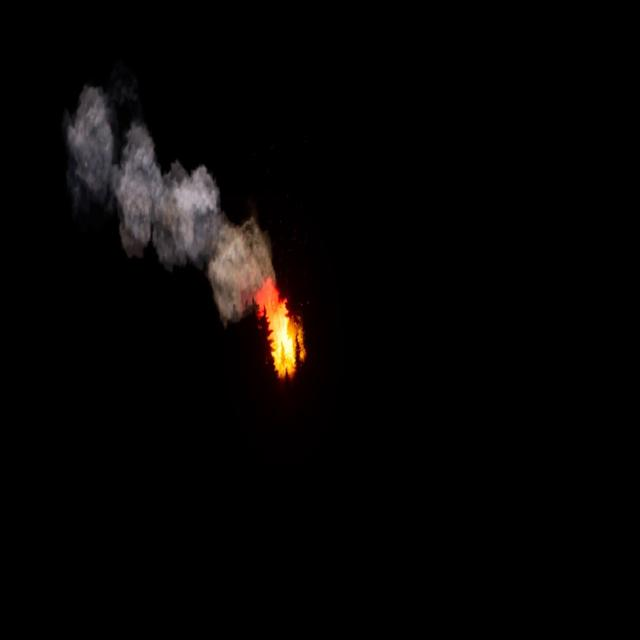fire: (241, 277, 307, 378)
smoke: (66, 78, 273, 318)
